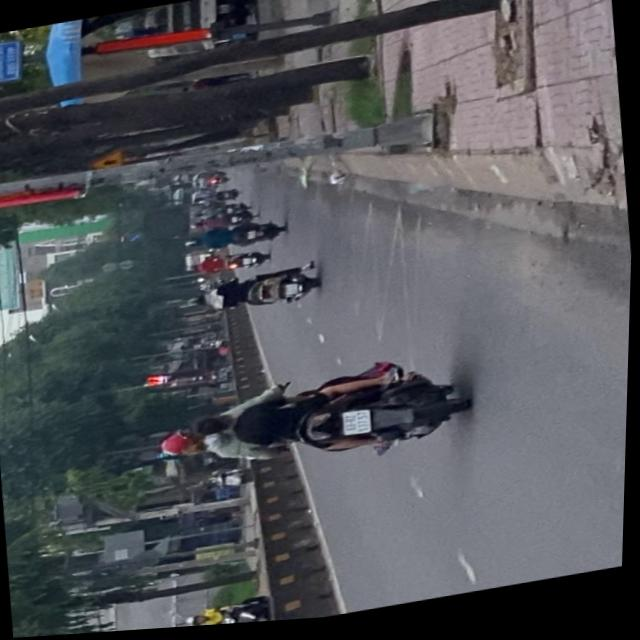helmet: (160, 430, 209, 463)
licenseplate: (154, 354, 476, 493)
motorcyclist: (192, 415, 235, 441)
nohelmet: (343, 413, 372, 441)
